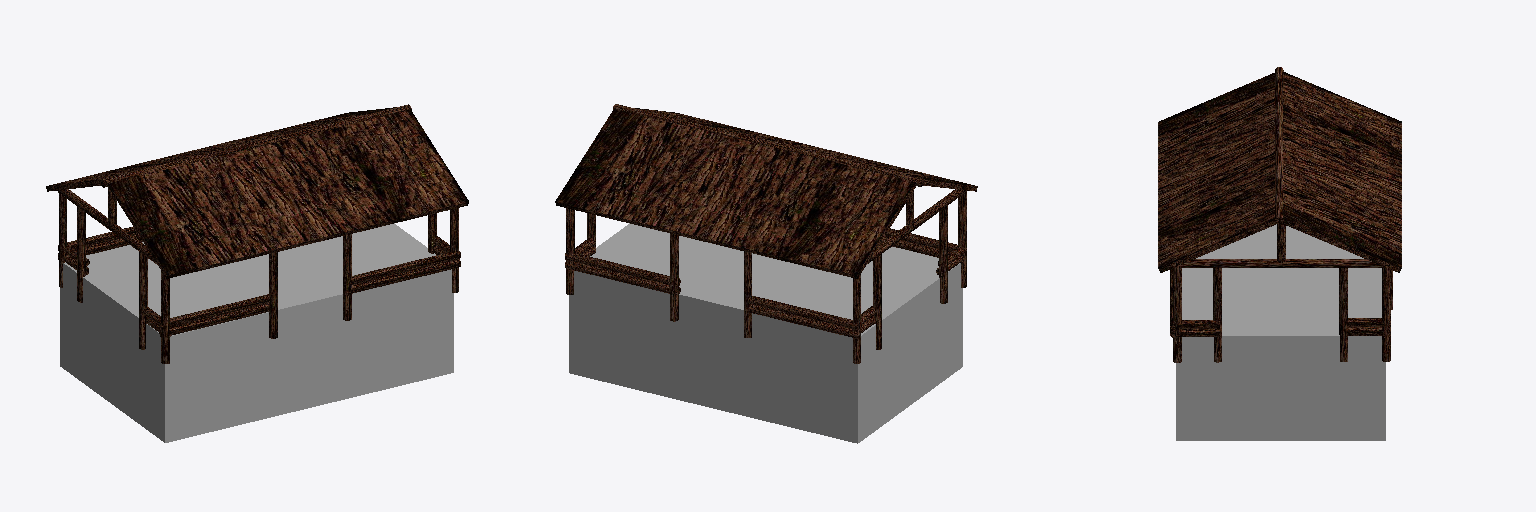
3 renders of one model, left to right at view 1: azimuth 30°, elevation 25°; view 2: azimuth 150°, elevation 25°; view 3: azimuth 270°, elevation 25°, orthographic.
Parts seen in each view (by area): view 1: Box58, Box56, Box59, Cylinder60, Cylinder55, Cylinder54, Cylinder59, Cylinder57, Cylinder56, Cylinder33, Cylinder32, Cylinder35 (+4 smaller); view 2: Box58, Box59, Box56, Cylinder60, Cylinder51, Cylinder53, Cylinder59, Cylinder50, Cylinder52, Cylinder34, Cylinder38, Cylinder35 (+4 smaller); view 3: Box58, Box59, Box56, Cylinder58, Cylinder60, Cylinder40, Cylinder39, Cylinder14, Cylinder41.
Part boxes in pixels (x1,y1,x2,y2): Box58: (60, 223, 453, 442); Box56: (109, 110, 468, 278); Box59: (46, 107, 395, 191); Cylinder60: (101, 104, 411, 187); Cylinder55: (349, 251, 460, 284); Cylinder54: (349, 259, 460, 293); Cylinder59: (58, 189, 157, 264); Cylinder57: (160, 294, 269, 327); Cylinder56: (159, 303, 269, 336); Cylinder33: (161, 271, 169, 363); Cylinder32: (269, 252, 277, 338); Cylinder35: (77, 206, 85, 302); Box58: (569, 223, 962, 443); Box59: (555, 109, 915, 278); Box56: (635, 108, 977, 191); Cylinder60: (613, 104, 923, 186); Cylinder51: (748, 296, 857, 329); Cylinder53: (565, 253, 680, 285); Cylinder59: (868, 189, 966, 263); Cylinder50: (748, 305, 857, 338); Cylinder52: (565, 262, 680, 294); Cylinder34: (939, 204, 947, 303); Cylinder38: (670, 233, 678, 321); Cylinder35: (873, 254, 881, 349); Box58: (1176, 224, 1385, 440); Box59: (1282, 72, 1401, 272); Box56: (1158, 73, 1275, 272); Cylinder58: (1179, 259, 1385, 267); Cylinder60: (1275, 67, 1283, 224); Cylinder40: (1339, 268, 1347, 361); Cylinder39: (1382, 268, 1390, 361); Cylinder14: (1173, 266, 1181, 362); Cylinder41: (1213, 267, 1221, 362).
Size of the model in its own units: 8.44 by 6.01 by 5.81.
Materials: 2 (1 with a texture image).